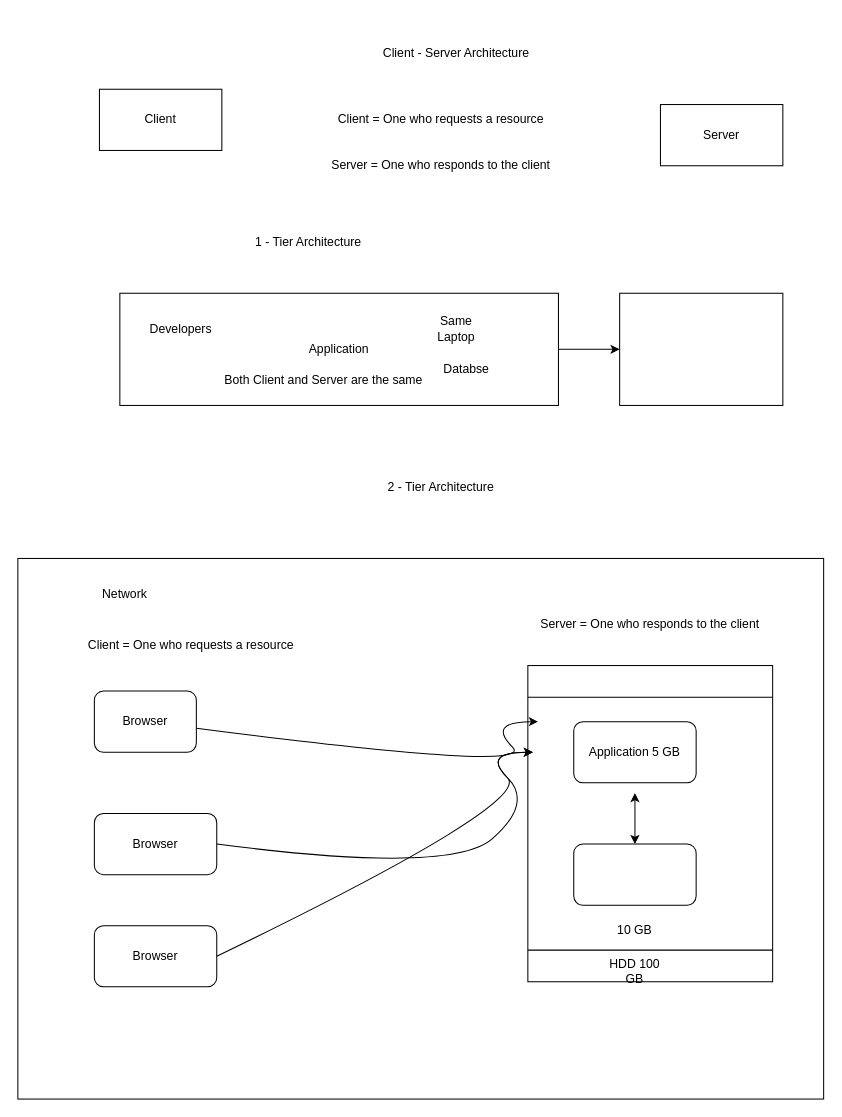
This 842x1117 diagram has some shape labels left out. Here are the shapes that lost their labels. From the top down, the centre of each, then its label:
[701,348]: Dead
[634,874]: Data Base 5 GB
